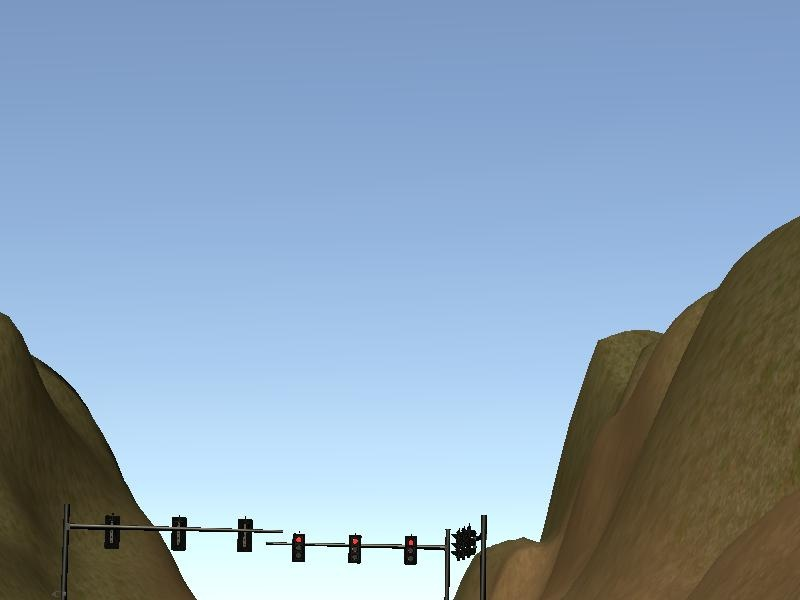Red: (292, 533, 305, 562), (404, 536, 417, 565), (349, 534, 361, 564)
